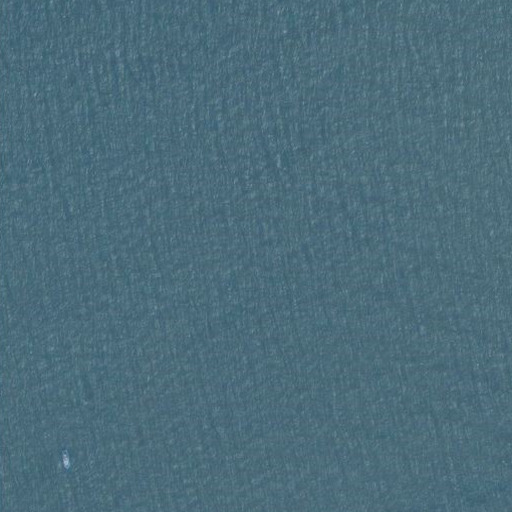ship: (57, 446, 72, 471)
